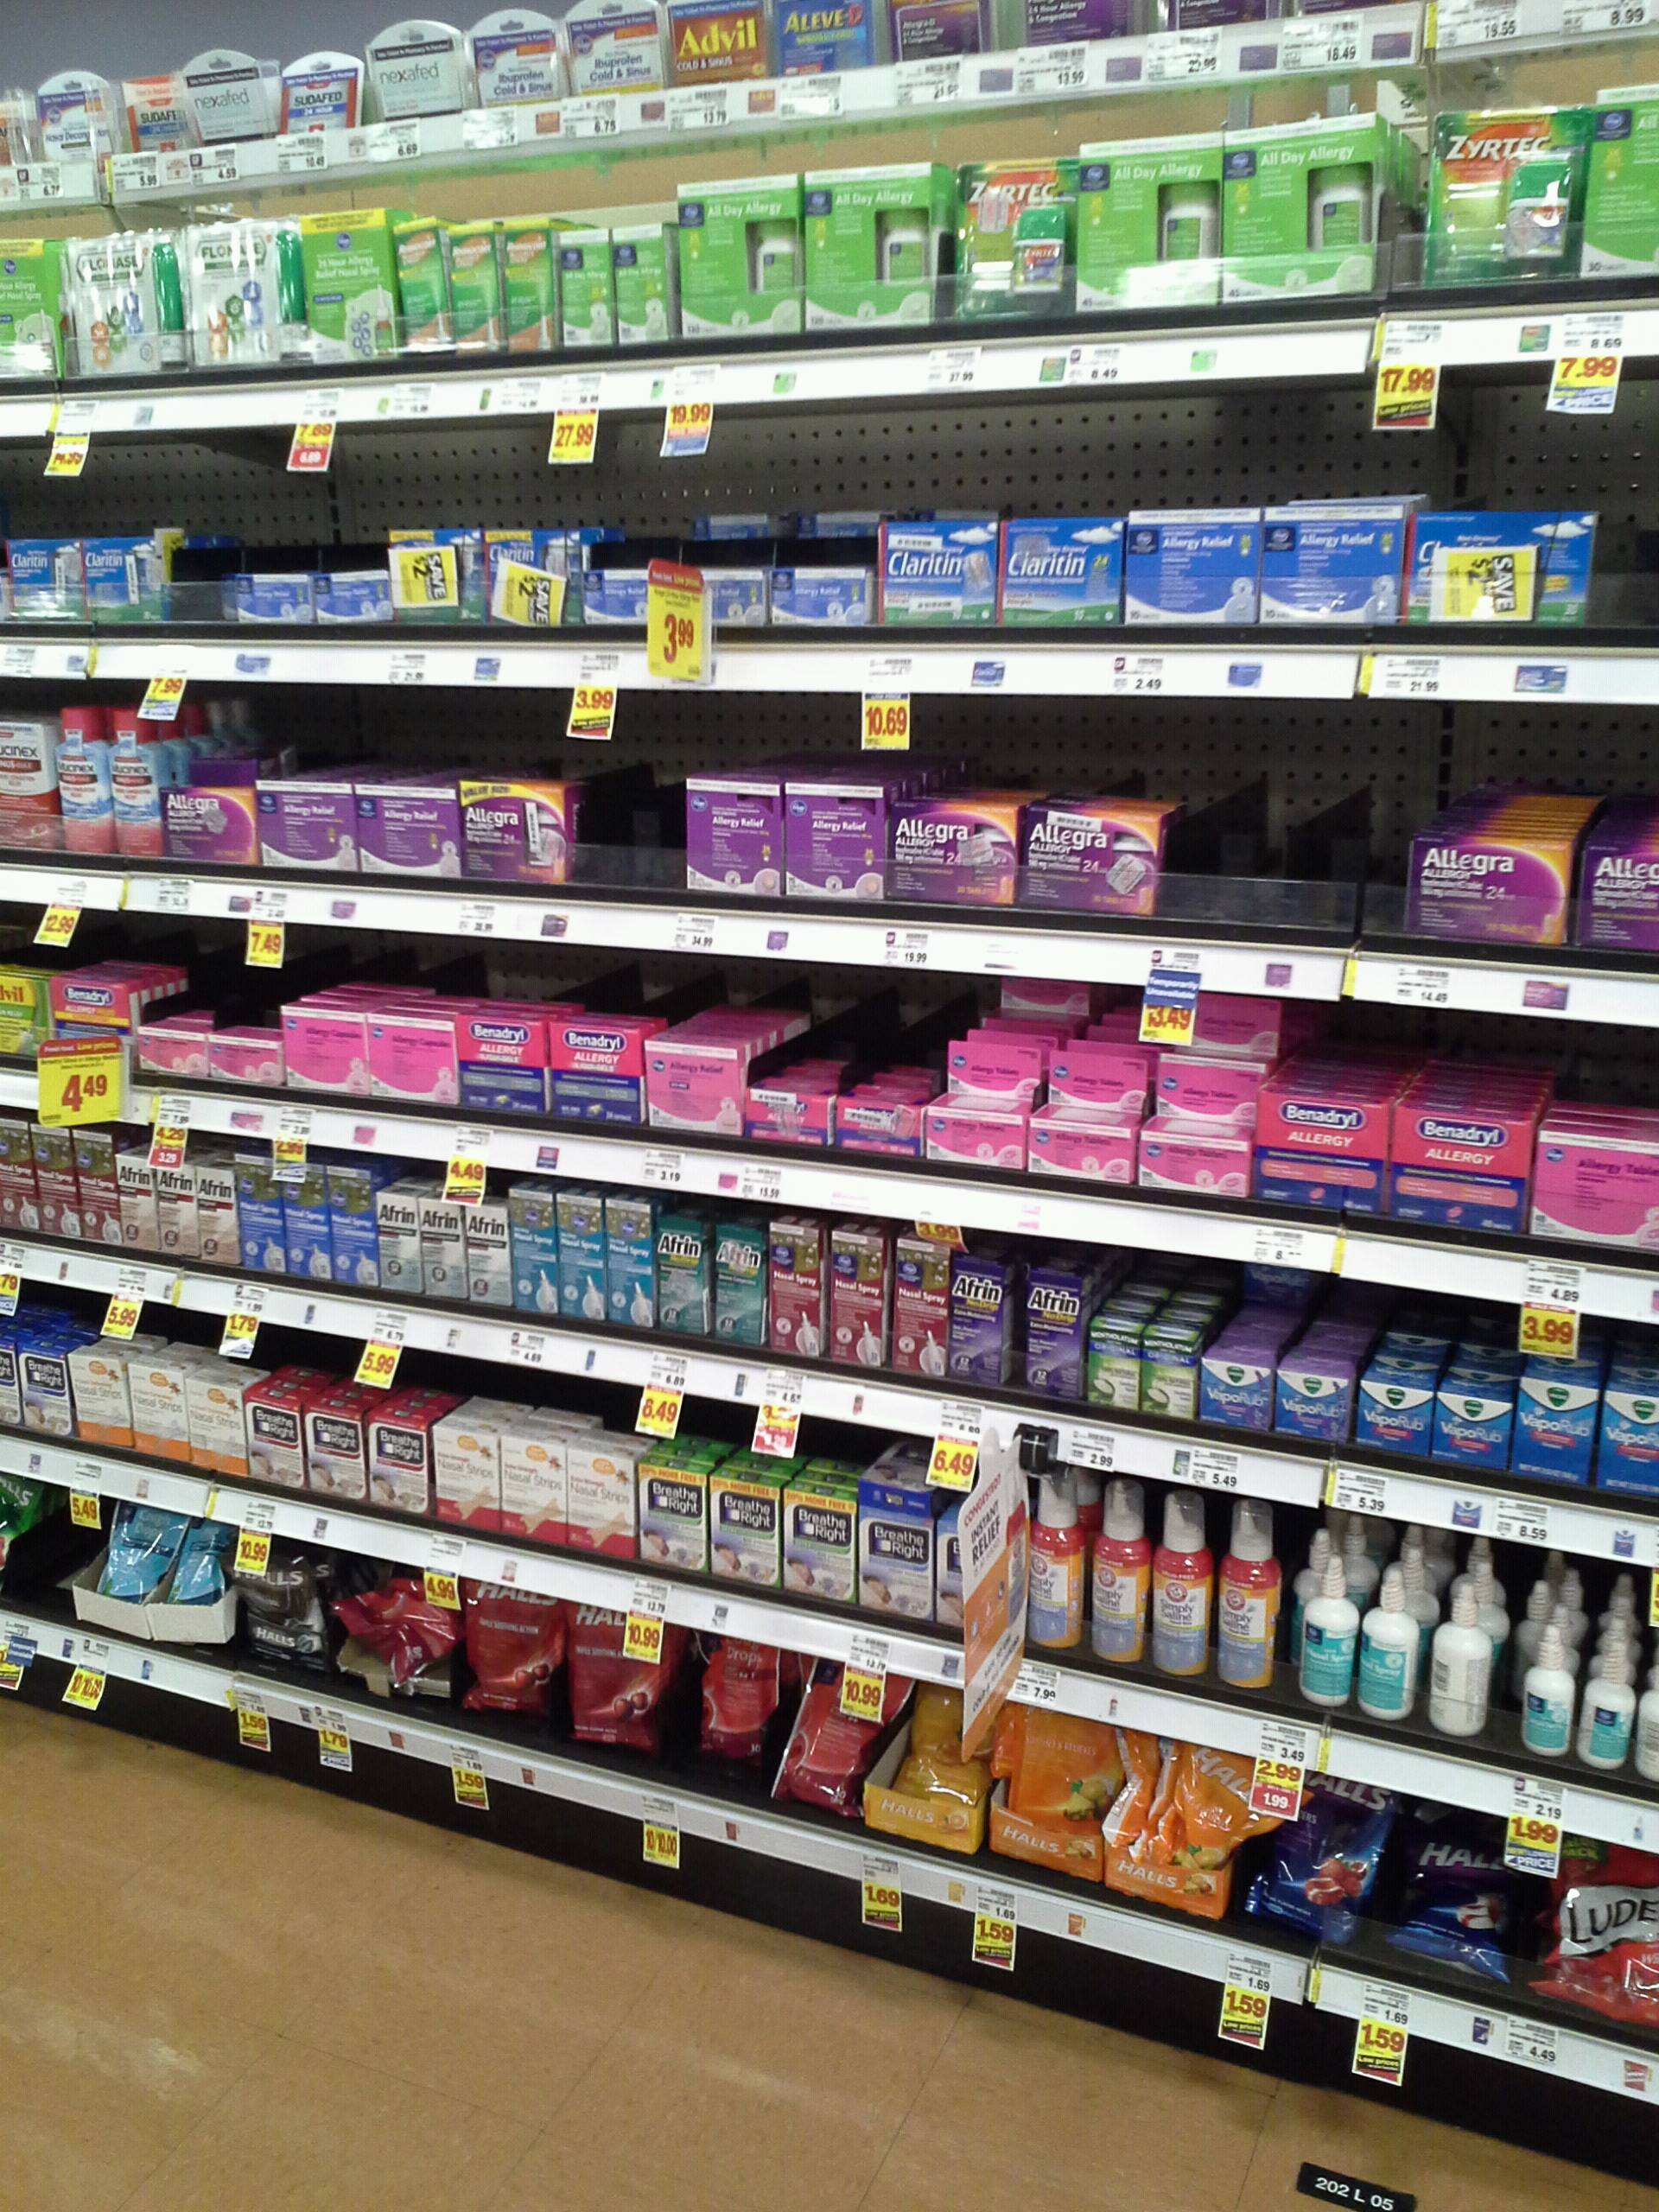Out-of-stock: (1162, 714, 1391, 998), (568, 702, 688, 948)
